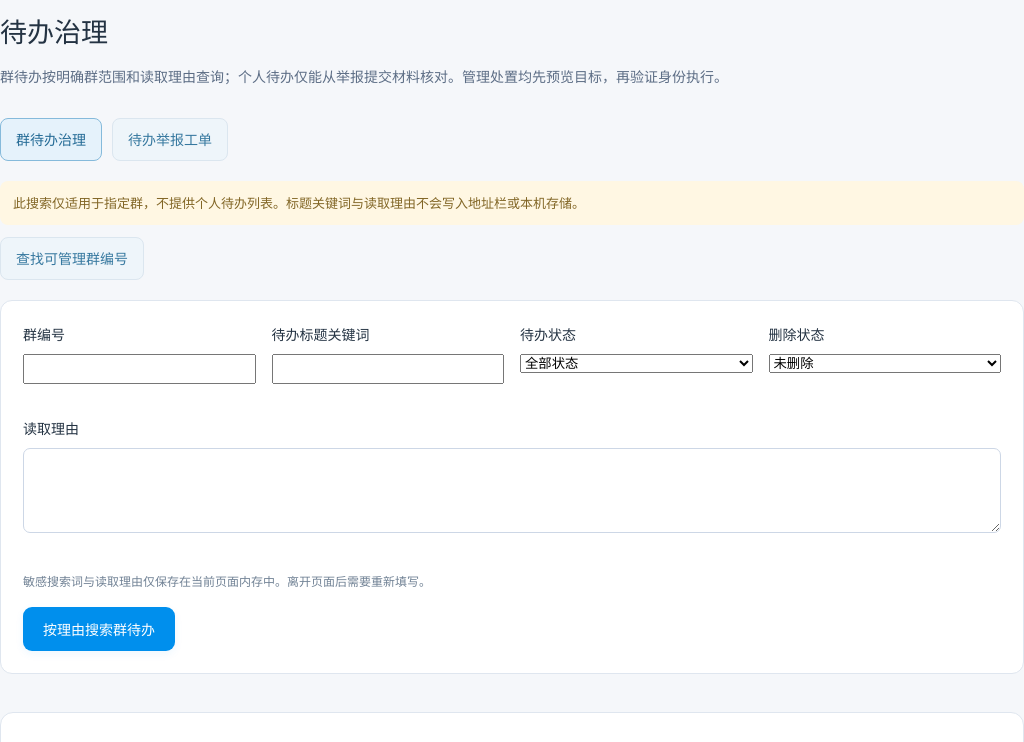
Test: V3 task governance controlled reading › does not request a global personal list and sends title/reason only in POST body
Type "group1" into the field labelled "群编号" at (139, 369), box [23,354,256,384]
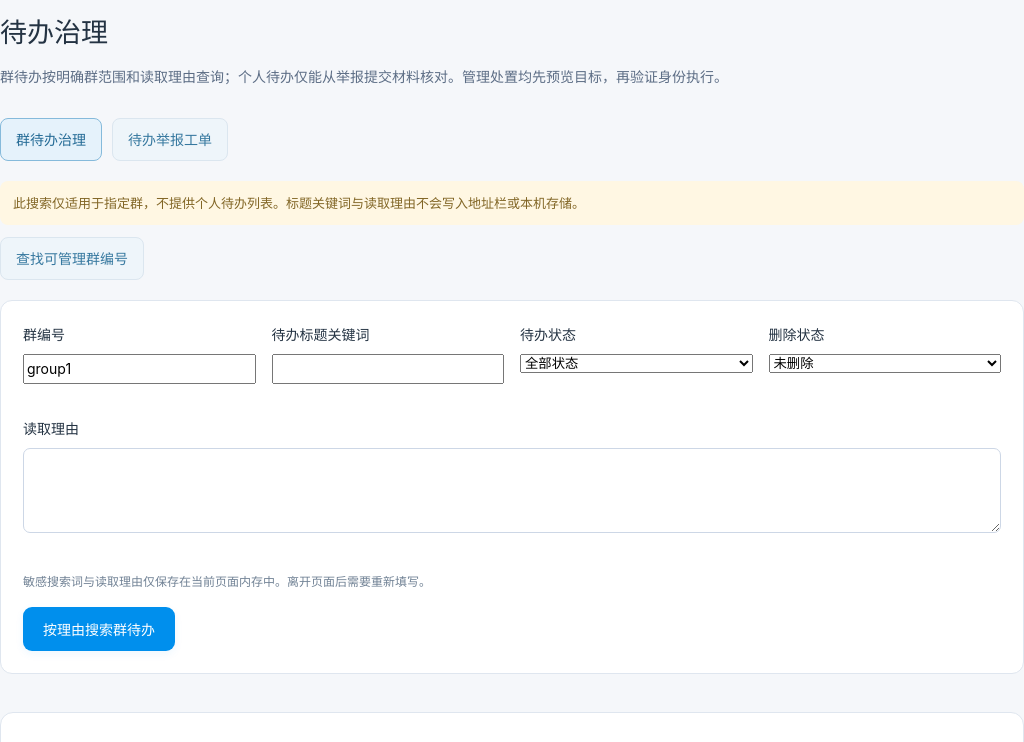
Type "限定标题关键词" into the field labelled "待办标题关键词" at (388, 369), box [272,354,504,384]
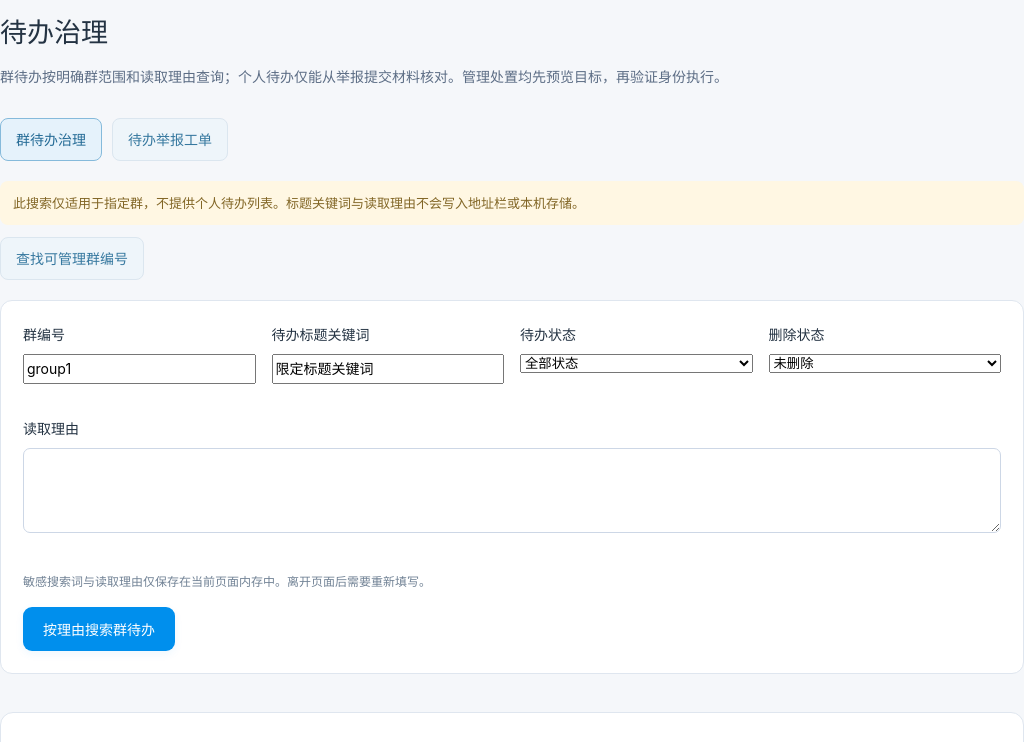
Type "核对群内投诉的读取理由" into the text box labelled "读取理由" at (512, 490), box [23,448,1001,533]
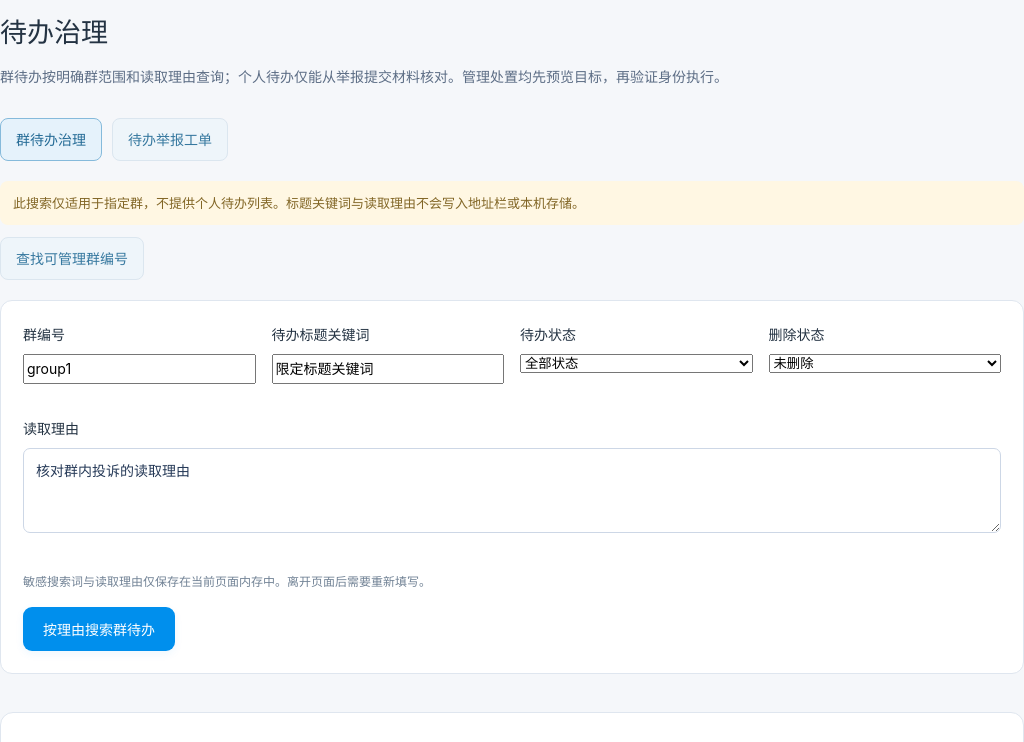
Click the button "按理由搜索群待办" at (99, 629), box [23,607,175,651]
(page scrolled)
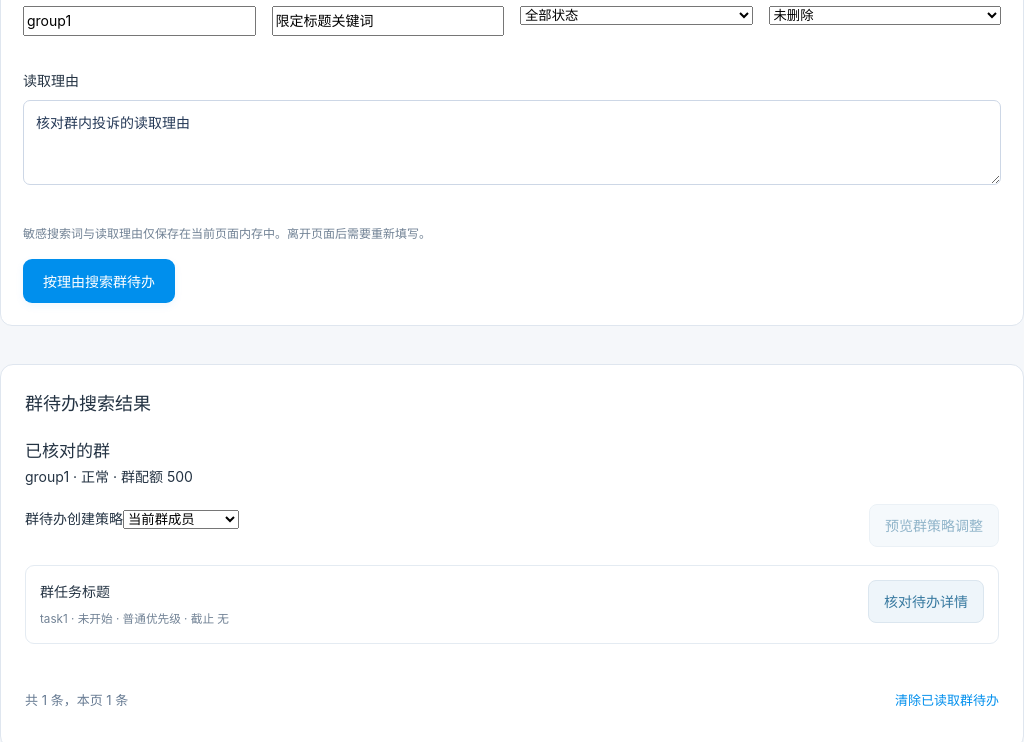
Expected: the button "核对待办详情" is shown, [868,580,984,623]
